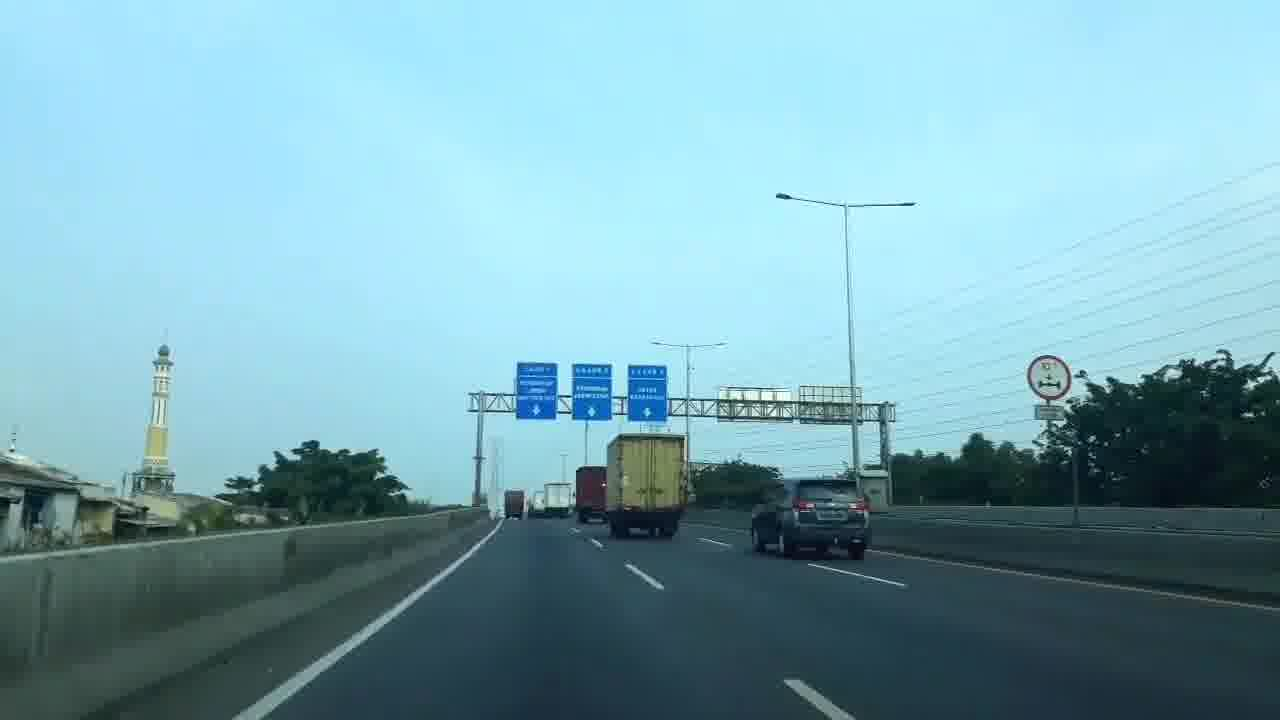plate_positive: (820, 510, 845, 518)
